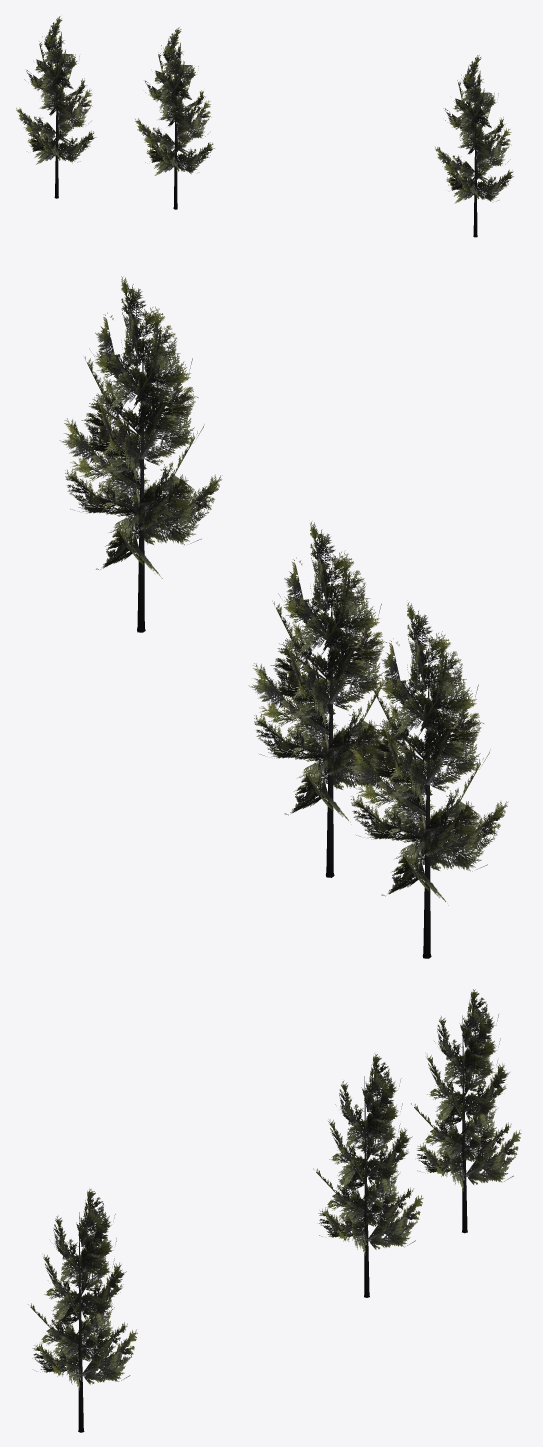
The model's file is trees_c_gam.fbx.
The picture shows the model from 3 angles, top to bottom: view 1: azimuth 30°, elevation 25°; view 2: azimuth 150°, elevation 25°; view 3: azimuth 270°, elevation 25°; orthographic projection. The views are drawn at different scales.
Parts seen in each view (by area): view 1: trees_c_gam; view 2: trees_c_gam; view 3: trees_c_gam.
Part boxes in pixels (box(x1,y1,x2,y2)): trees_c_gam: box(16, 16, 513, 237); trees_c_gam: box(59, 276, 508, 958); trees_c_gam: box(28, 989, 521, 1432).
Bounding box in the file's own units: 4157 × 2021 × 3652.
Materials: 2 (1 with a texture image).
